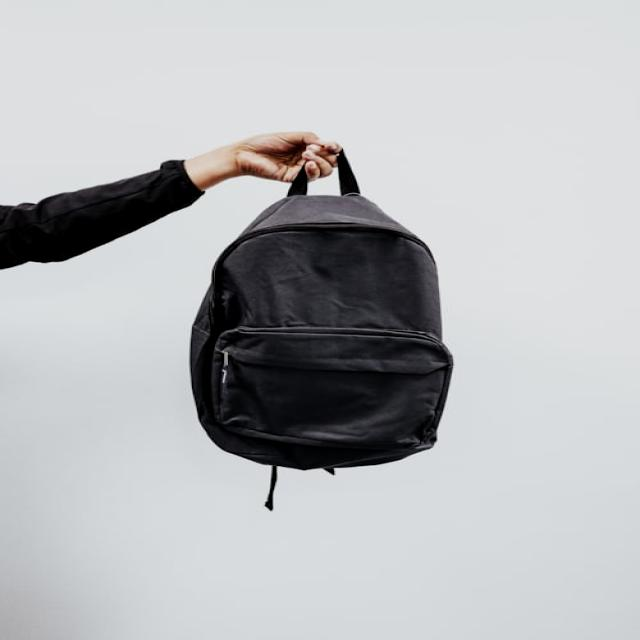backpack: (188, 145, 456, 509)
